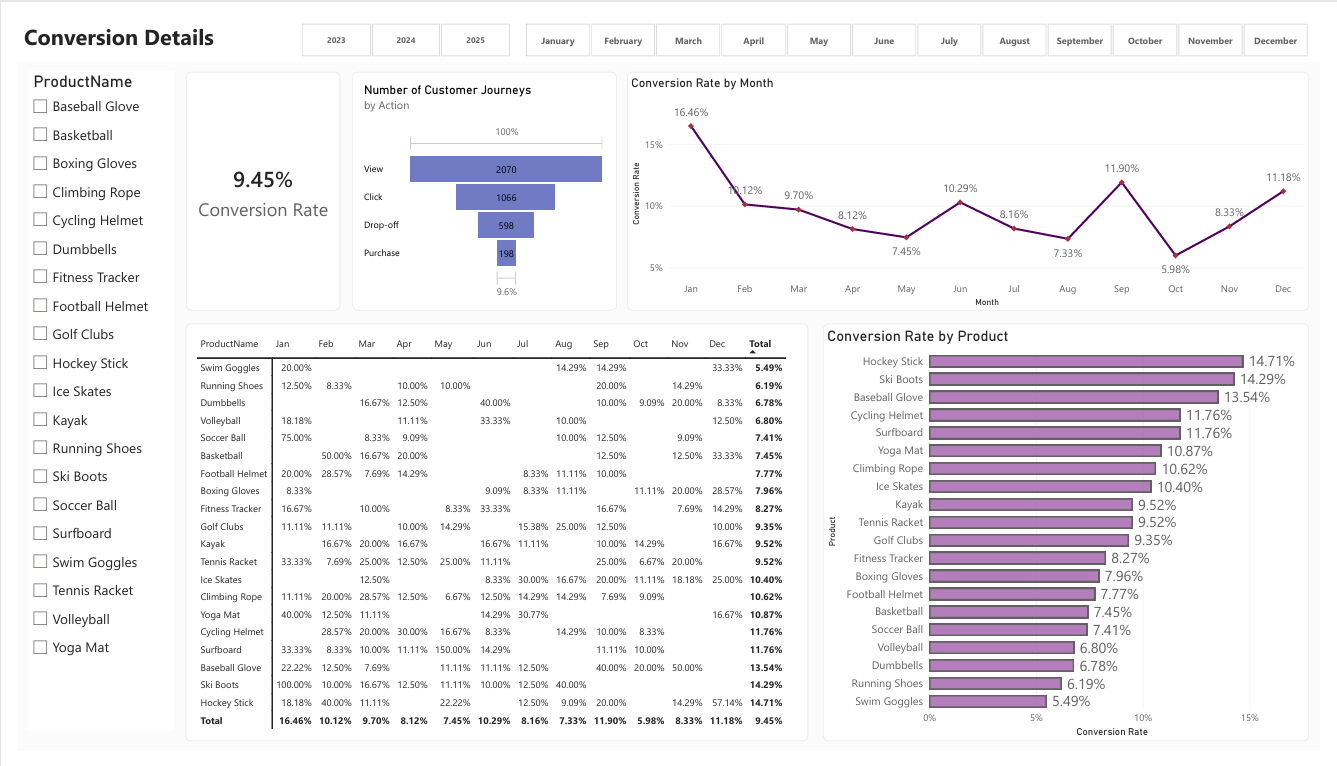

The page's visual inventory and layout, read from the dashboard file:
{"tool":"powerbi","page":{"name":"Conversion Rate","canvas":[1920,1080],"ordinal":1},"visuals":[{"type":"textbox","box":[0,0,1920,64.3],"z":0},{"type":"slicer","fields":{"Values":["dim_products.ProductName"]},"box":[15.7,78.6,215.7,971.4],"z":1000},{"type":"card","fields":{"Values":["Calendar.Conversion Rate"]},"box":[248.6,78.6,227.1,352.9],"z":2000},{"type":"clusteredBarChart","title":"Conversion Rate by Product","fields":{"Category":["dim_products.ProductName"],"Y":["_Calculations.Conversion Rate"]},"box":[1188,450,716,616],"z":2003},{"type":"pivotTable","fields":{"Columns":["Calendar.MonthNameShort"],"Rows":["dim_products.ProductName"],"Values":["_Calculations.Conversion Rate"]},"box":[248,450,918,616],"z":2004},{"type":"lineChart","title":"Conversion Rate by Month","fields":{"Category":["Calendar.MonthNameShort"],"Y":["_Calculations.Conversion Rate"]},"box":[898.6,78.6,1005.7,352.9],"z":2005},{"type":"funnel","fields":{"Category":["fact_customer_journey.Action"],"Y":["_Calculations.Number of Customer Journeys"]},"box":[494.3,78.6,390,352.9],"z":2006},{"type":"slicer","fields":{"Values":["Calendar.Date.Variation.Date Hierarchy.Month"]},"box":[728.6,5.7,1192,52],"z":2007},{"type":"slicer","fields":{"Values":["Calendar.Year"]},"box":[398.6,5.7,346,52],"z":2008}]}

Visuals, with their boxes in screenshot pixels (x1, y1, x2, y2), scaled from the page's 1920x1080 canvas onto the 1337x766 screenshot:
textbox: Rect(0, 0, 1336, 46)
slicer - dim_products.ProductName: Rect(11, 56, 161, 745)
card - Calendar.Conversion Rate: Rect(173, 56, 331, 306)
"Conversion Rate by Product" clusteredBarChart: Rect(827, 319, 1326, 756)
pivotTable - Calendar.MonthNameShort x dim_products.ProductName: Rect(173, 319, 812, 756)
"Conversion Rate by Month" lineChart: Rect(626, 56, 1326, 306)
funnel - fact_customer_journey.Action x _Calculations.Number of Customer Journeys: Rect(344, 56, 616, 306)
slicer - Calendar.Date.Variation.Date Hierarchy.Month: Rect(507, 4, 1336, 41)
slicer - Calendar.Year: Rect(278, 4, 519, 41)
